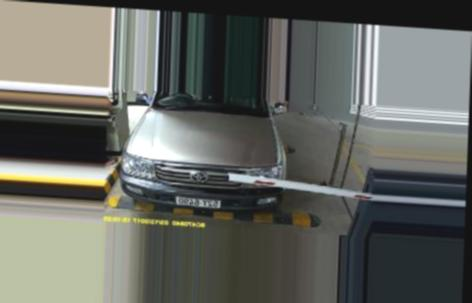License_Plate: (177, 194, 219, 209)
